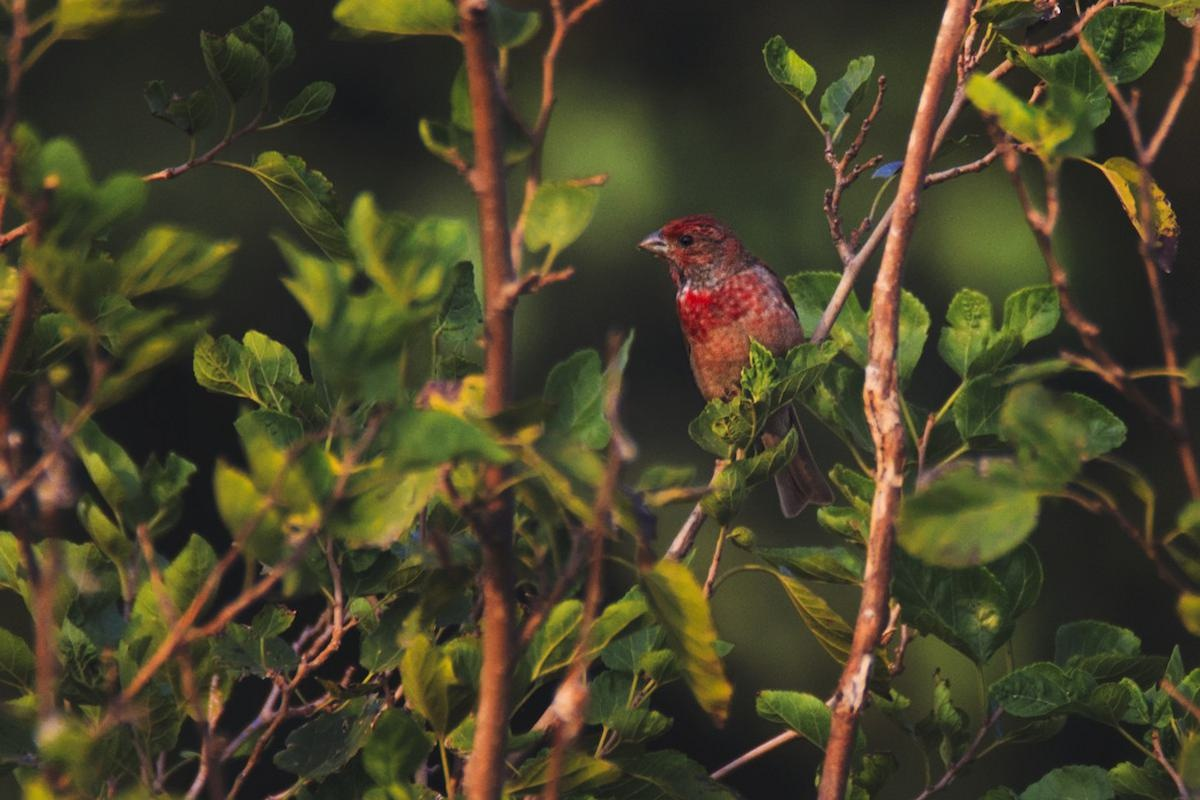rosefinch: (668, 178, 817, 538)
